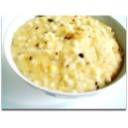venpongal: (15, 20, 120, 87)
